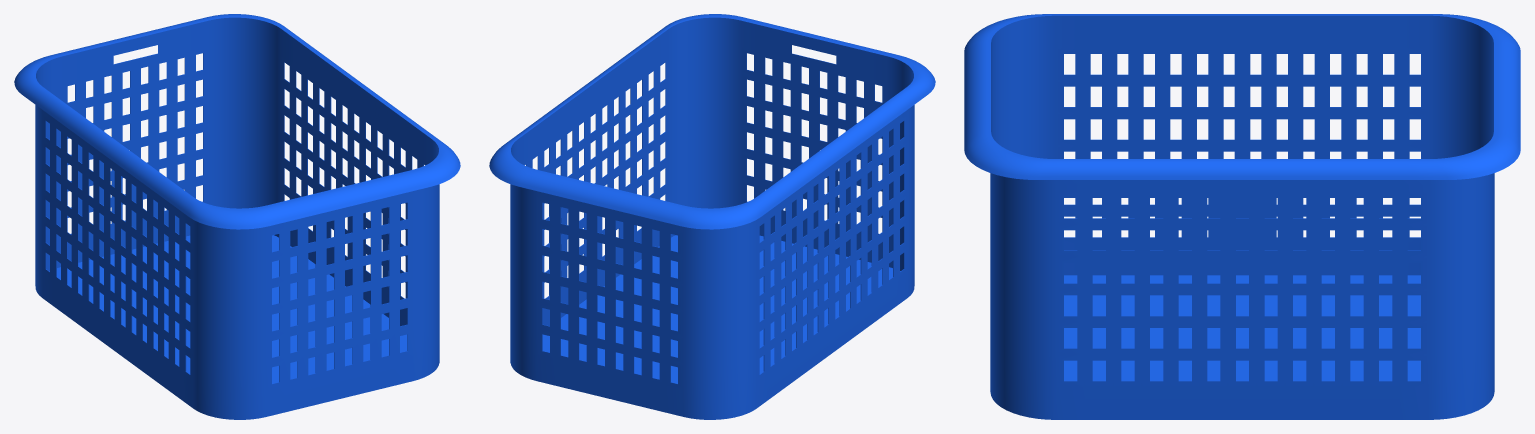
Rendered from Basket.fbx.
The picture shows the model from 3 angles, left to right: view 1: azimuth 30°, elevation 25°; view 2: azimuth 150°, elevation 25°; view 3: azimuth 270°, elevation 25°; orthographic projection. The views are drawn at different scales.
Visible parts, largest first — view 1: Basket; view 2: Basket; view 3: Basket.
Boxes of the visible parts, x1,y1,x2,y2 form: Basket: (14, 14, 460, 419); Basket: (489, 14, 935, 419); Basket: (964, 14, 1520, 419).
Bounding box in the file's own units: 221 × 170 × 328.
